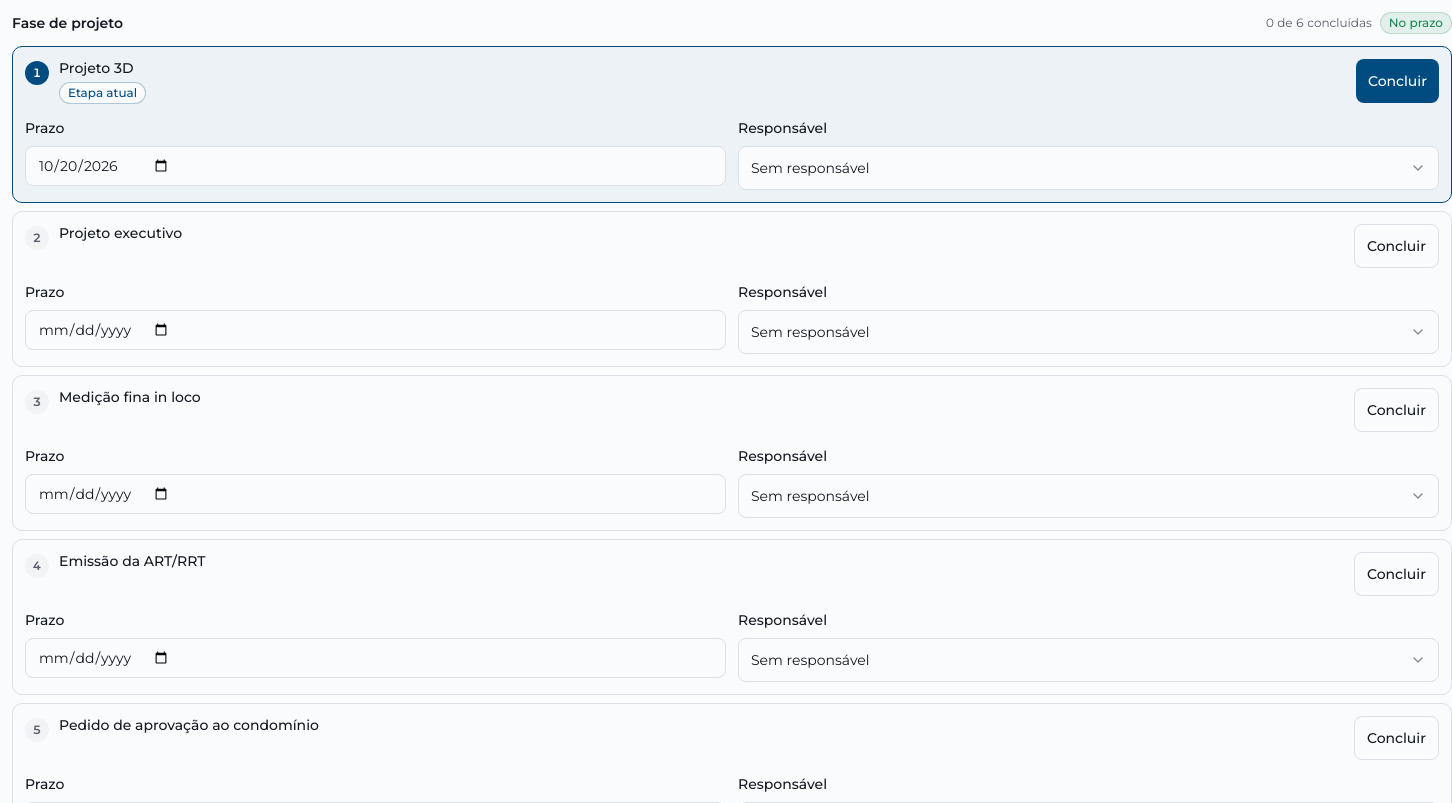
Test case: Fase de projeto: prazo e responsável › se a gravação falhar, o campo volta ao que está no banco e não há aviso de sucesso
In the date field labelled "Prazo" below "Etapa atual": (376, 166) 25,146 -> 726,186, type "2026-10-23"
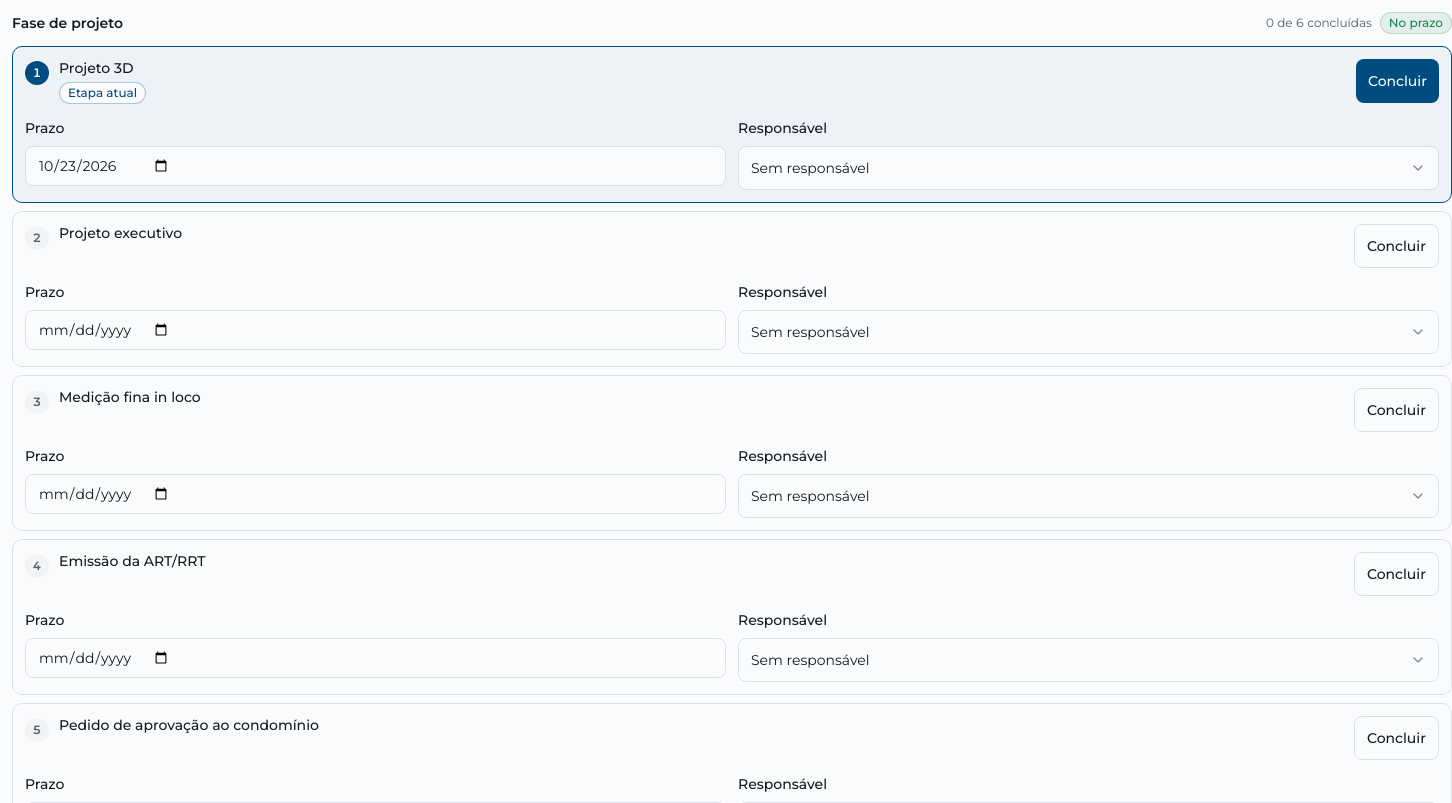
Leave the date field labelled "Prazo" below "Etapa atual", box 25,146 -> 726,186
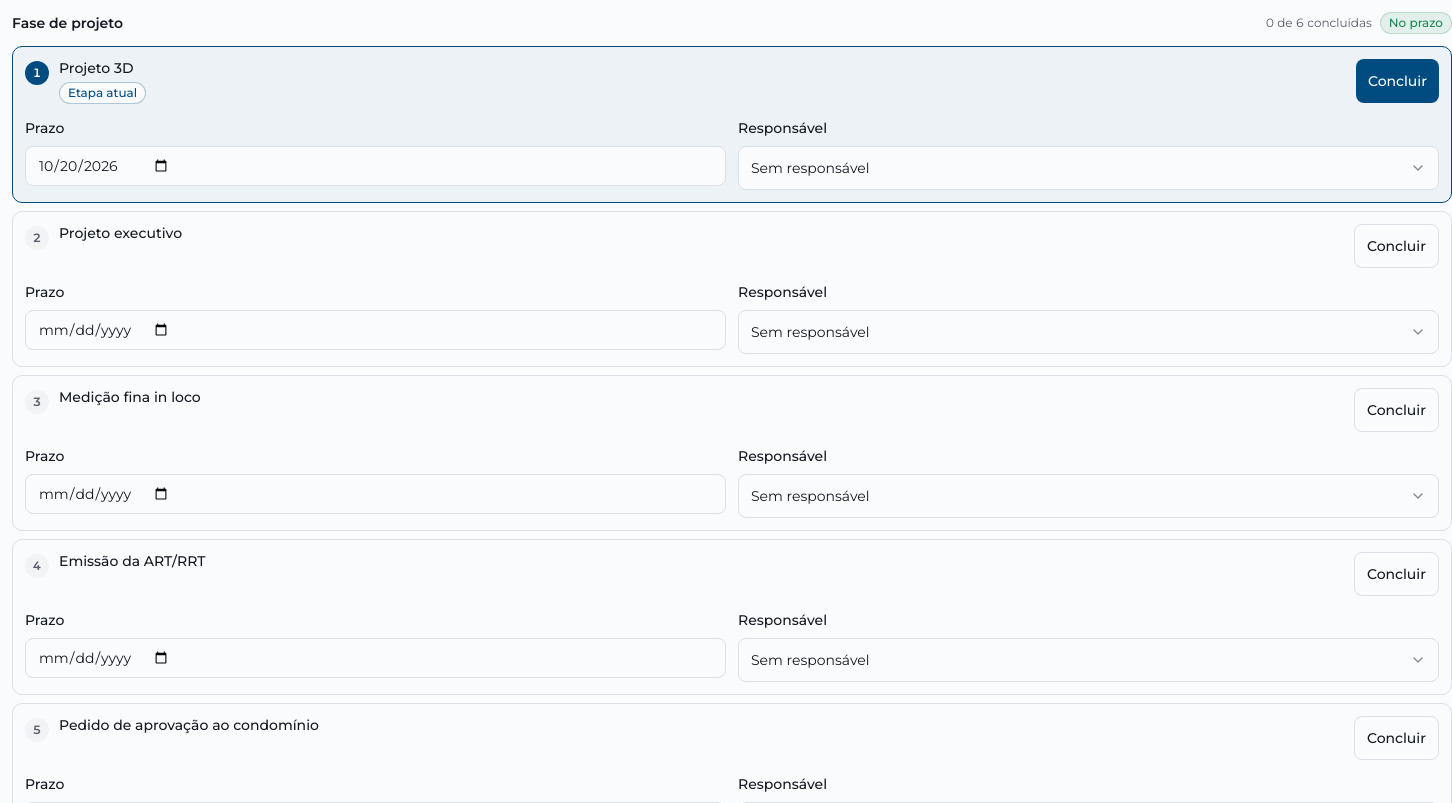
Expected: the button "Concluir" in the row of "Etapa atual" is enabled, 1356,59 -> 1439,103
Expected: the date field labelled "Prazo" below "Etapa atual" holds "2026-10-20", 25,146 -> 726,186
